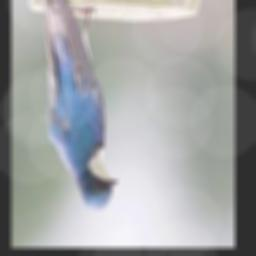Swallow: (45, 0, 117, 210)
